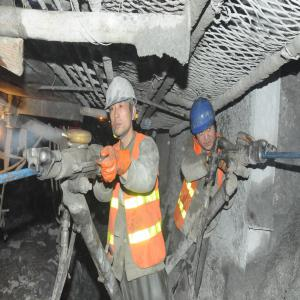blue: (190, 95, 218, 155)
white: (106, 76, 139, 140)
